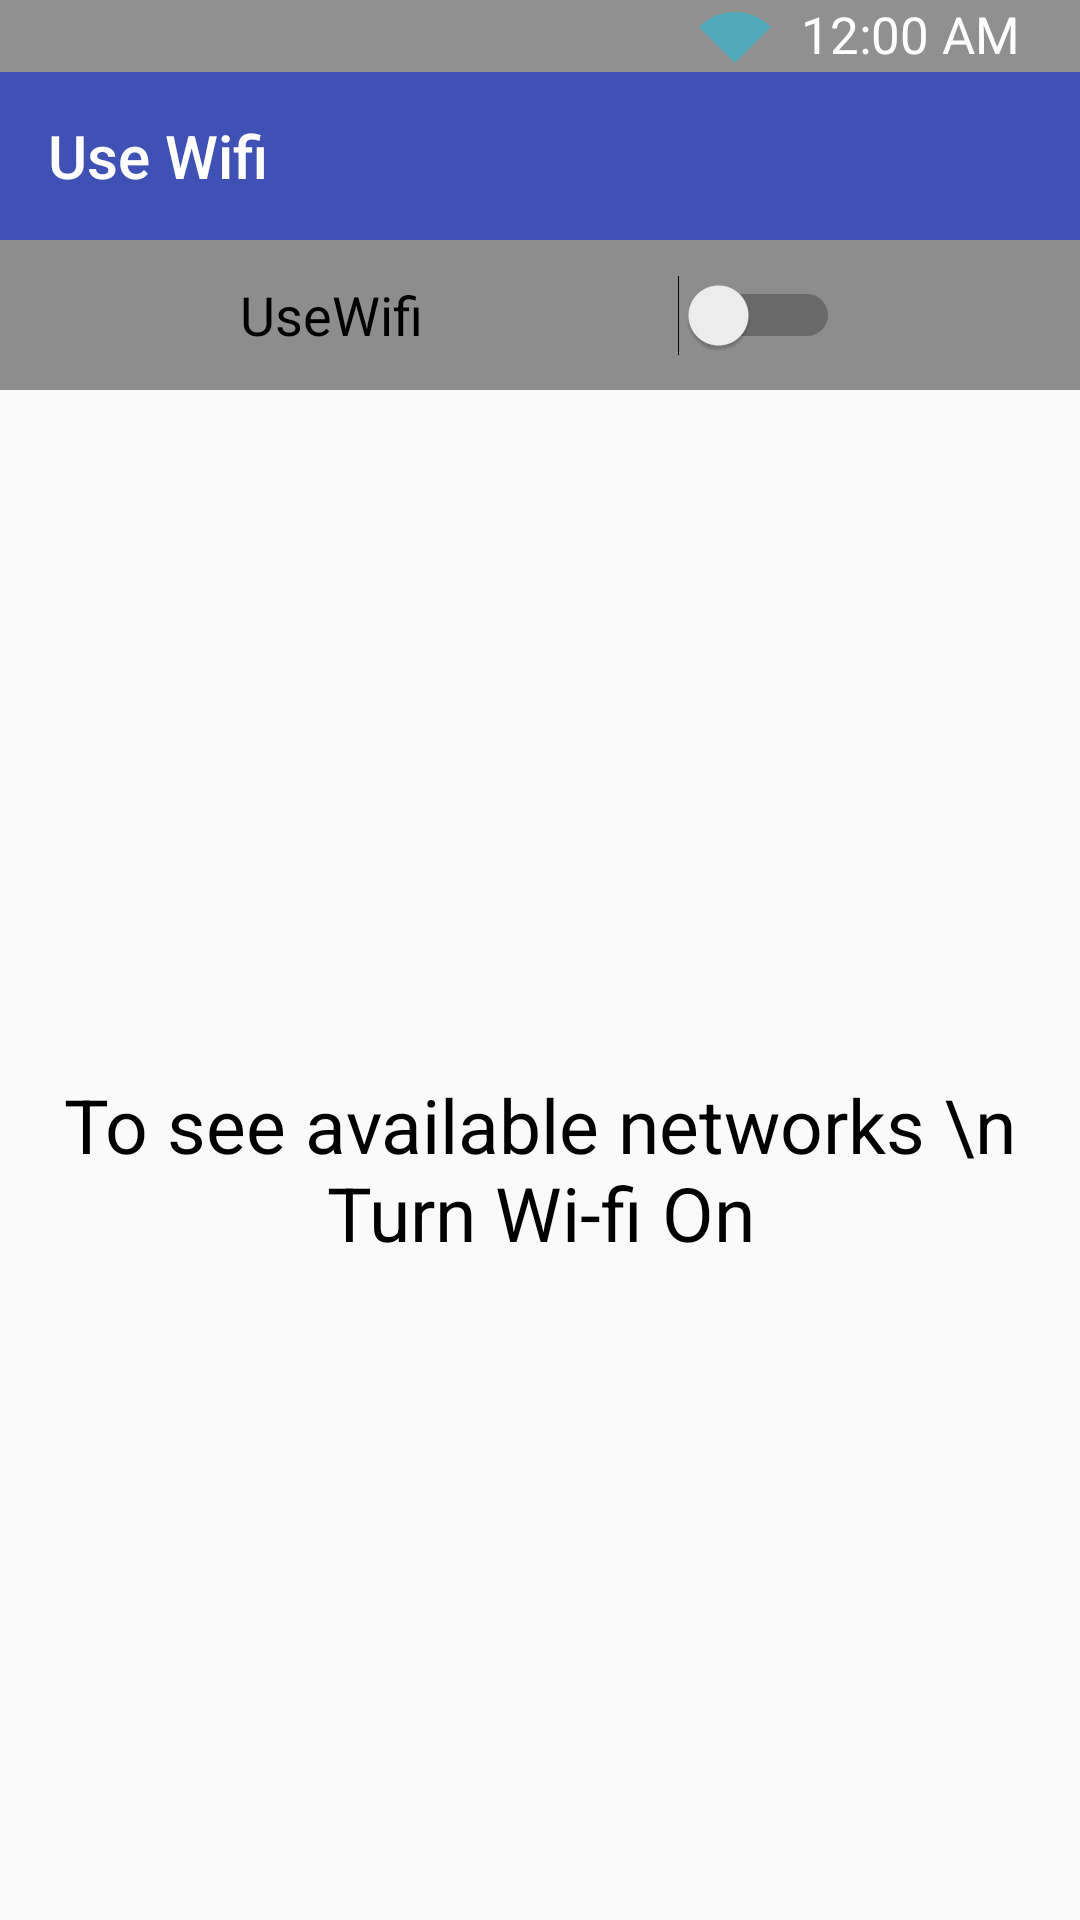

Locate icon controls on the screen. Image size 1080×1920, boxes as (x1, y1, x2, y2).
wifi: (699, 12, 771, 63)
